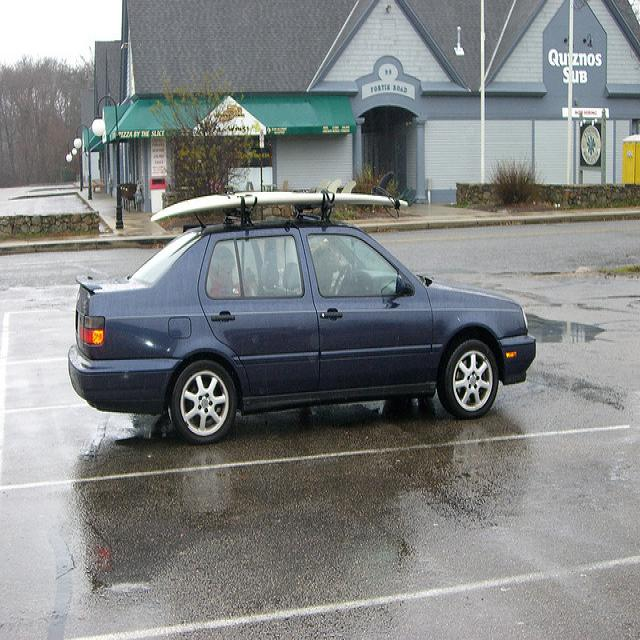Vehicle: (65, 205, 536, 438)
